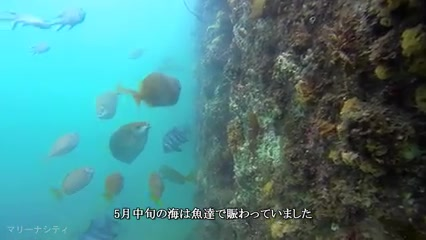smallfish: (114, 69, 188, 114), (50, 162, 97, 202)
